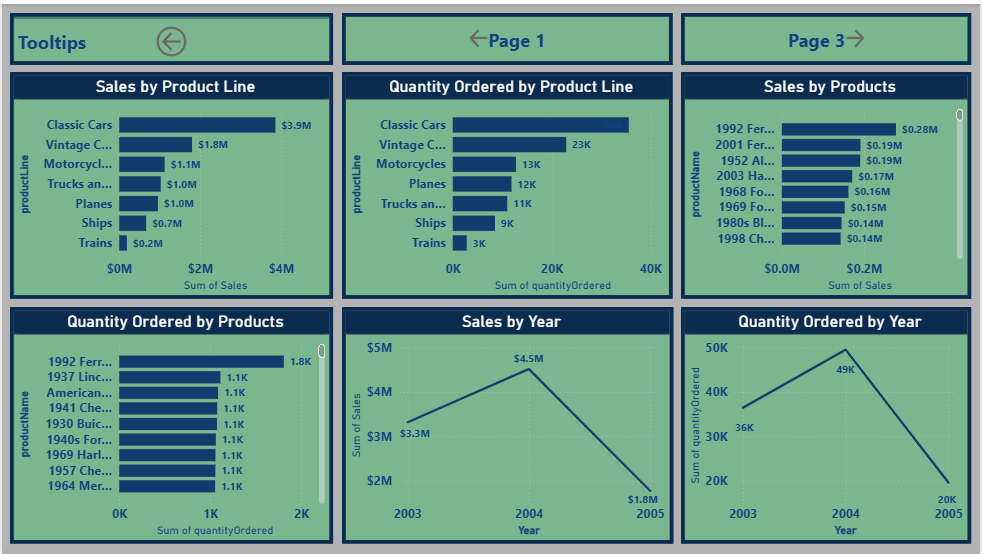

The dashboard page shown, as its layout file describes it:
{"tool":"powerbi","page":{"name":"Page 2","canvas":[1280,720],"ordinal":2},"visuals":[{"type":"actionButton","box":[10.1,11.5,423.4,67.7],"z":0},{"type":"barChart","title":"Sales by Product Line","fields":{"Category":["ProductLine.productLine"],"Y":["Sum(Order_Details.Sales)"]},"box":[10.1,89.3,423.4,296.6],"z":1000},{"type":"barChart","title":"Quantity Ordered by Product Line","fields":{"Category":["ProductLine.productLine"],"Y":["Sum(Order_Details.quantityOrdered)"]},"box":[445,89.3,433.4,296.6],"z":2000},{"type":"barChart","title":"Sales by Products","fields":{"Y":["Sum(Order_Details.Sales)"],"Category":["Products.productName"]},"box":[888.5,89.3,380.2,296.6],"z":3000},{"type":"barChart","title":"Quantity Ordered by Products","fields":{"Y":["Sum(Order_Details.quantityOrdered)"],"Category":["Products.productName"]},"box":[10.1,396,423.4,309.6],"z":4000},{"type":"lineChart","title":"Sales by Year","fields":{"Category":["Orders.orderDate.Variation.Date Hierarchy.Year","Orders.orderDate.Variation.Date Hierarchy.Quarter","Orders.orderDate.Variation.Date Hierarchy.Month","Orders.orderDate.Variation.Date Hierarchy.Day"],"Y":["Sum(Order_Details.Sales)"]},"box":[444.6,396.4,433.5,309.7],"z":5000},{"type":"lineChart","title":"Quantity Ordered by Year","fields":{"Category":["Orders.orderDate.Variation.Date Hierarchy.Year","Orders.orderDate.Variation.Date Hierarchy.Quarter","Orders.orderDate.Variation.Date Hierarchy.Month","Orders.orderDate.Variation.Date Hierarchy.Day"],"Y":["Sum(Order_Details.quantityOrdered)"]},"box":[888.5,396,380.2,309.6],"z":6000},{"type":"actionButton","box":[888.5,11.5,380.2,67.7],"z":7000},{"type":"actionButton","box":[445,11.5,433.4,67.7],"z":8000}]}

Visuals, with their boxes in screenshot pixels (x1, y1, x2, y2), scaled from the page's 1280x720 canvas onto the 982x554 screenshot:
actionButton: 8:9:333:61
"Sales by Product Line" barChart: 8:69:333:297
"Quantity Ordered by Product Line" barChart: 341:69:674:297
"Sales by Products" barChart: 682:69:973:297
"Quantity Ordered by Products" barChart: 8:305:333:543
"Sales by Year" lineChart: 341:305:674:543
"Quantity Ordered by Year" lineChart: 682:305:973:543
actionButton: 682:9:973:61
actionButton: 341:9:674:61
